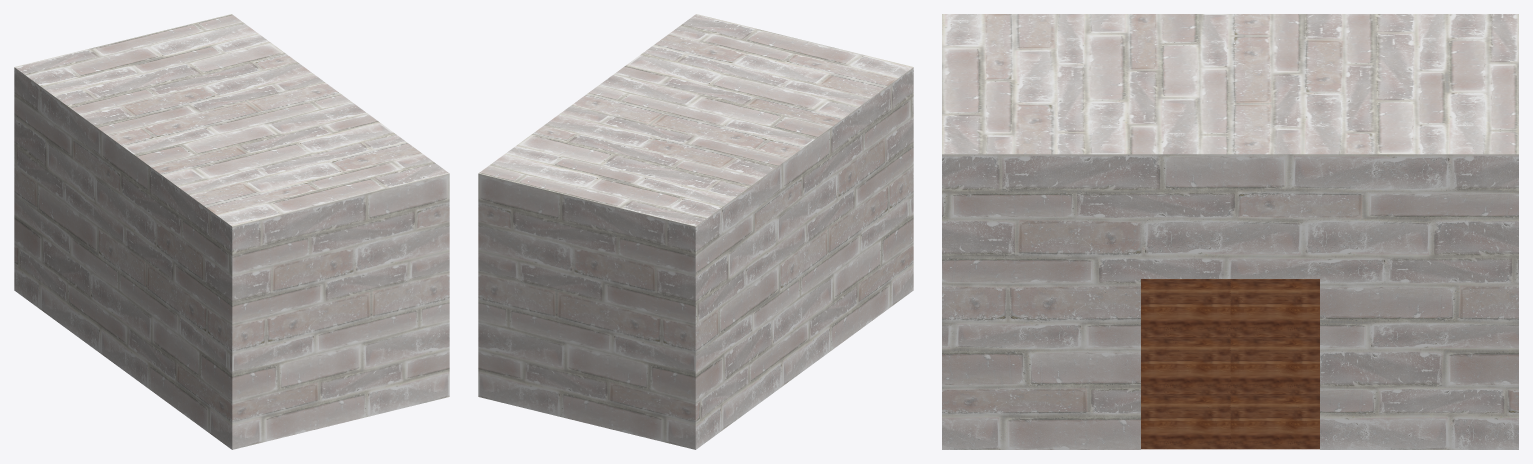
File: Room.glb
The picture shows the model from 3 angles, left to right: view 1: azimuth 30°, elevation 25°; view 2: azimuth 150°, elevation 25°; view 3: azimuth 270°, elevation 25°; orthographic projection. The views are drawn at different scales.
Visible parts, largest first — view 1: Room.001; view 2: Room.001; view 3: Room.001, GateL.001, Gate_R.001.
Part boxes in pixels (left/top/right/bottom): Room.001: left=14, top=14, right=449, bottom=449; Room.001: left=478, top=14, right=913, bottom=449; Room.001: left=942, top=14, right=1518, bottom=449; GateL.001: left=1141, top=279, right=1230, bottom=449; Gate_R.001: left=1230, top=279, right=1319, bottom=449.
Size of the model in its own units: 4.82 by 4.73 by 8.37.
3 materials, 3 textured.
